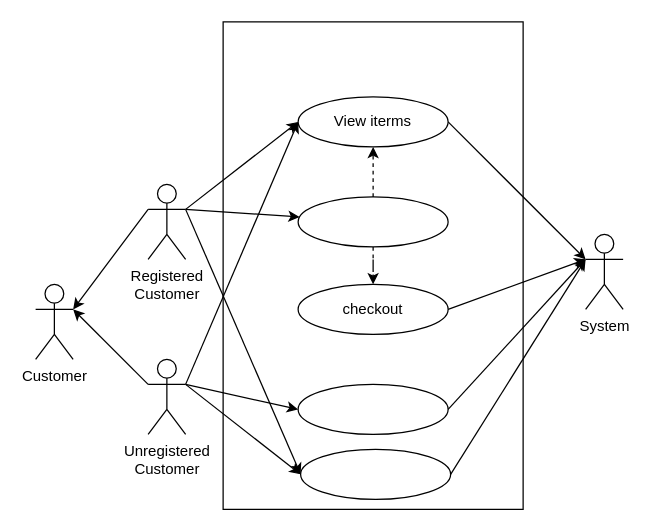
Image size: 650x531. Some labels were removed from this diagram. Here are the shapes that lost their labels. From the top down, the box of each, then its label:
(297, 196, 448, 247): make purchase
(297, 383, 448, 434): Client Register
(299, 448, 451, 499): Search items
